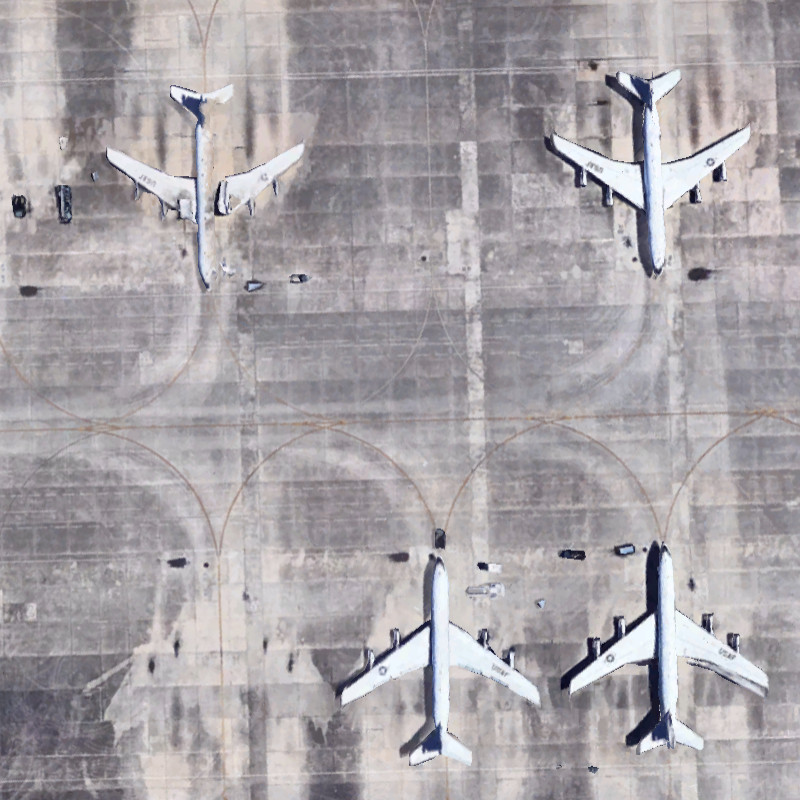A11: (87, 61, 324, 300), (527, 51, 759, 283), (322, 538, 550, 774), (567, 537, 789, 766)
